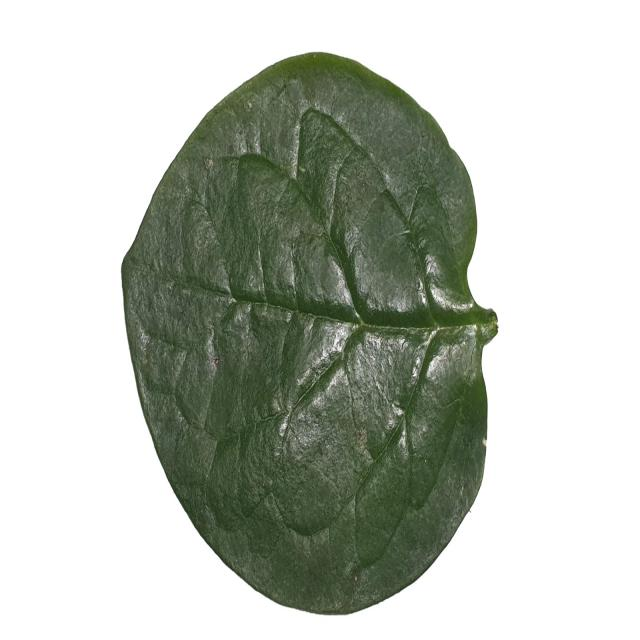Medicinal-Basale: (122, 50, 500, 618)
